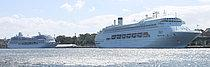Ship: (92, 15, 208, 52), (5, 28, 64, 51)
